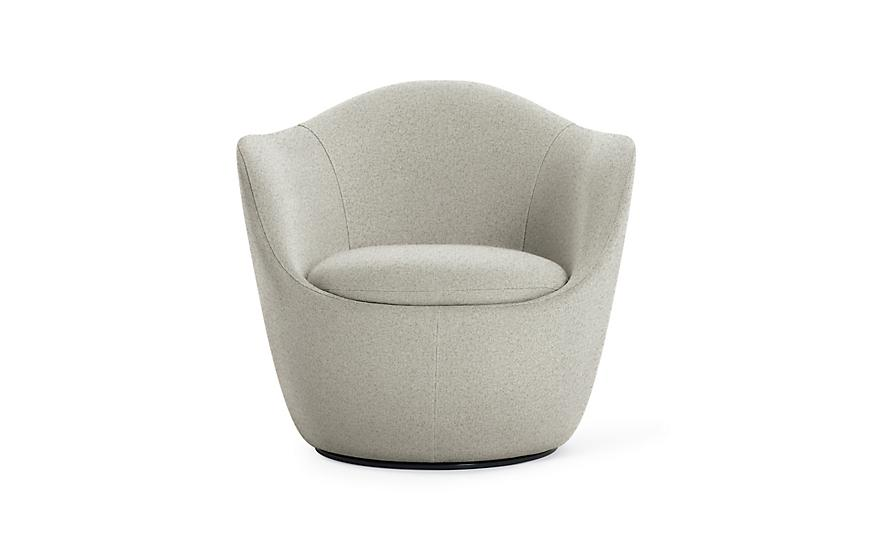chair: (210, 66, 694, 514)
